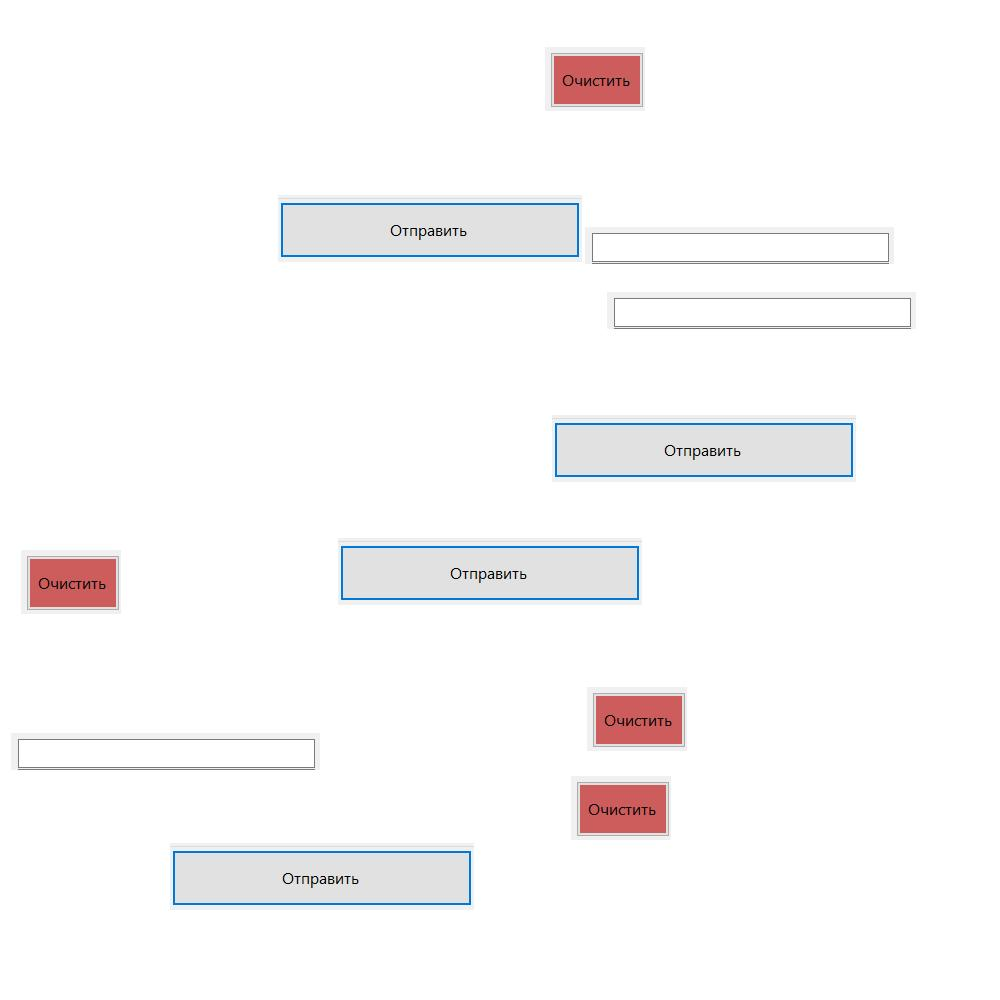Button: (278, 195, 582, 262), (170, 843, 474, 910), (552, 415, 856, 482), (338, 538, 642, 605), (545, 47, 645, 111), (587, 687, 687, 751), (571, 776, 671, 840), (21, 550, 121, 614)
EditText-: (11, 733, 320, 770), (607, 292, 916, 329), (585, 227, 894, 264)
